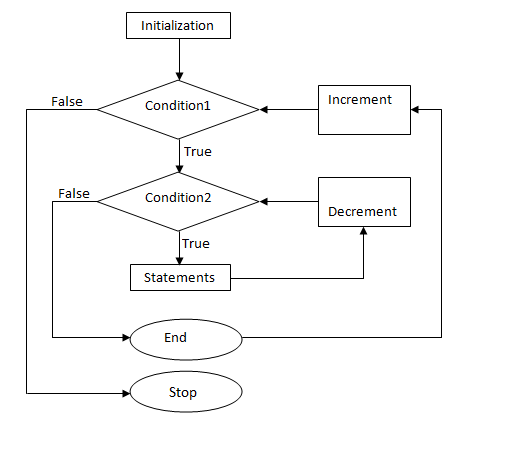arrow: (243, 104, 445, 341), (23, 104, 132, 398), (49, 196, 130, 343), (232, 226, 369, 281), (256, 195, 317, 207), (258, 104, 317, 115), (173, 39, 184, 78), (175, 138, 186, 174), (175, 231, 184, 262)
decision: (97, 79, 260, 139), (97, 173, 260, 231)
process: (315, 83, 413, 138), (315, 174, 413, 229), (123, 9, 234, 41), (128, 263, 233, 293)
terminator: (131, 317, 245, 363), (130, 370, 244, 415)
text: (140, 17, 215, 35), (143, 189, 212, 207), (327, 91, 395, 108), (143, 270, 217, 285), (144, 97, 213, 112), (327, 204, 399, 218), (47, 93, 86, 107), (56, 187, 91, 200), (182, 143, 212, 158), (168, 385, 198, 400), (160, 328, 188, 344), (181, 236, 210, 250)
